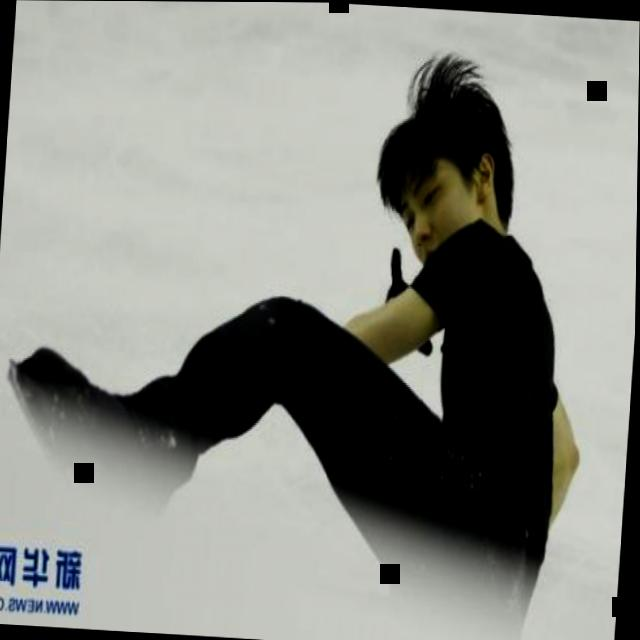Fall-Detected: (0, 17, 632, 627)
